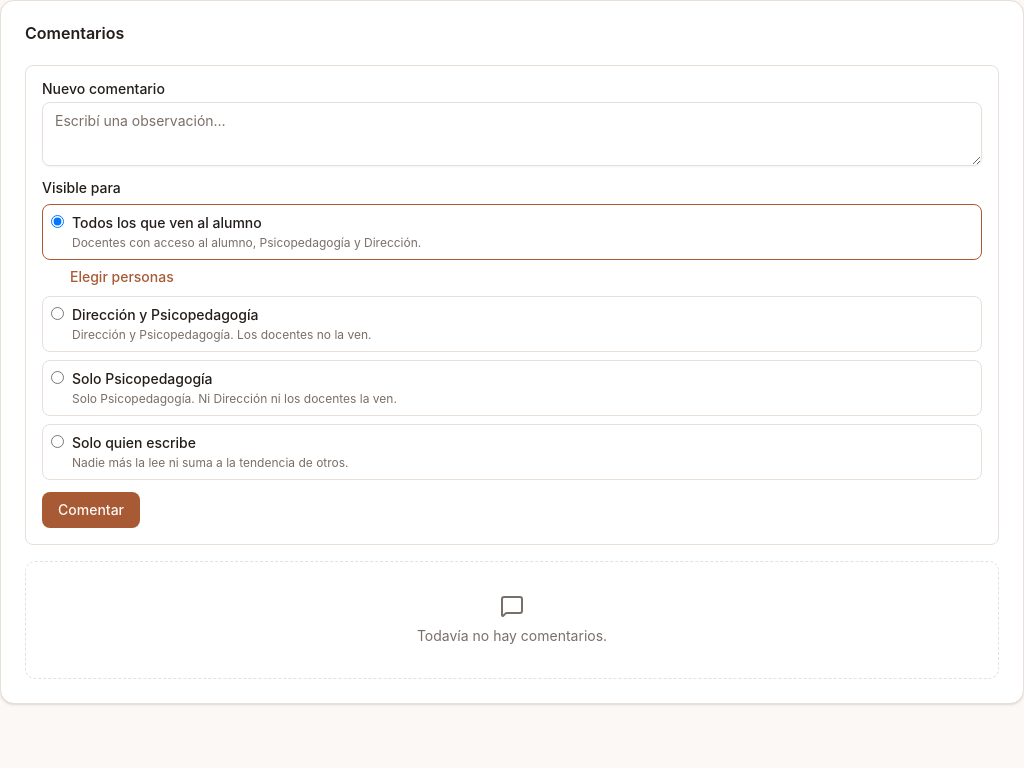
CommentsPanel observations bank › names the roles the other way round when only psychopedagogy has people picked
Click the 2nd radio button at point(58, 314), box [51,307,64,320]
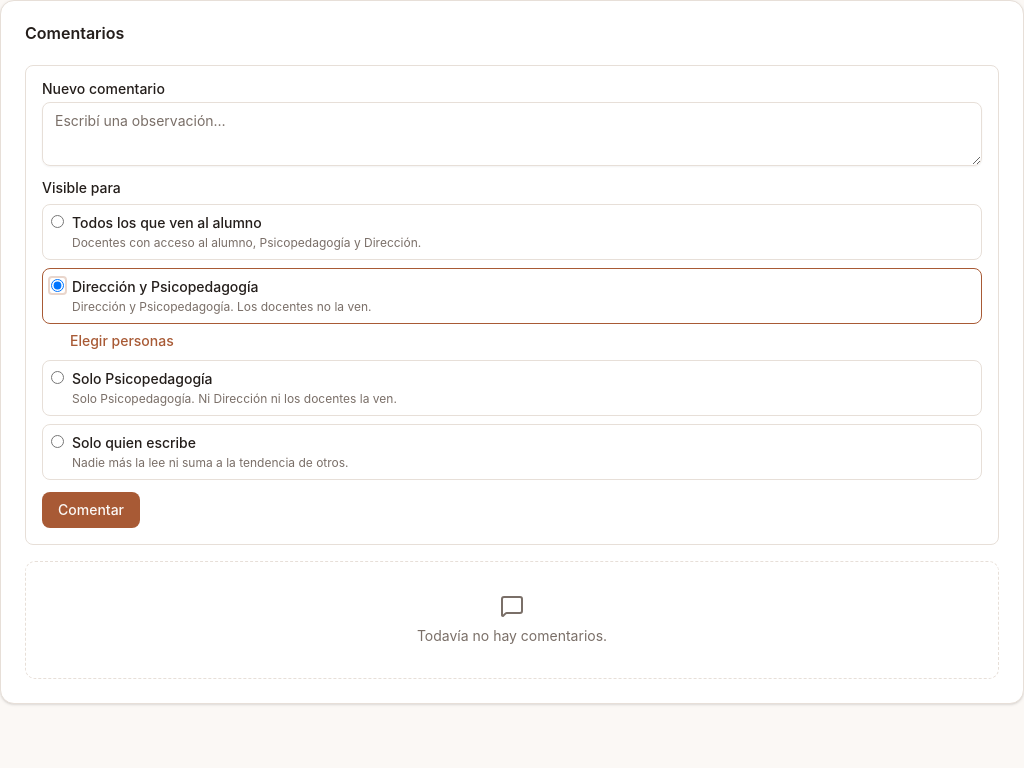
Click the button "Elegir personas" at point(122, 341), box [70,331,174,351]
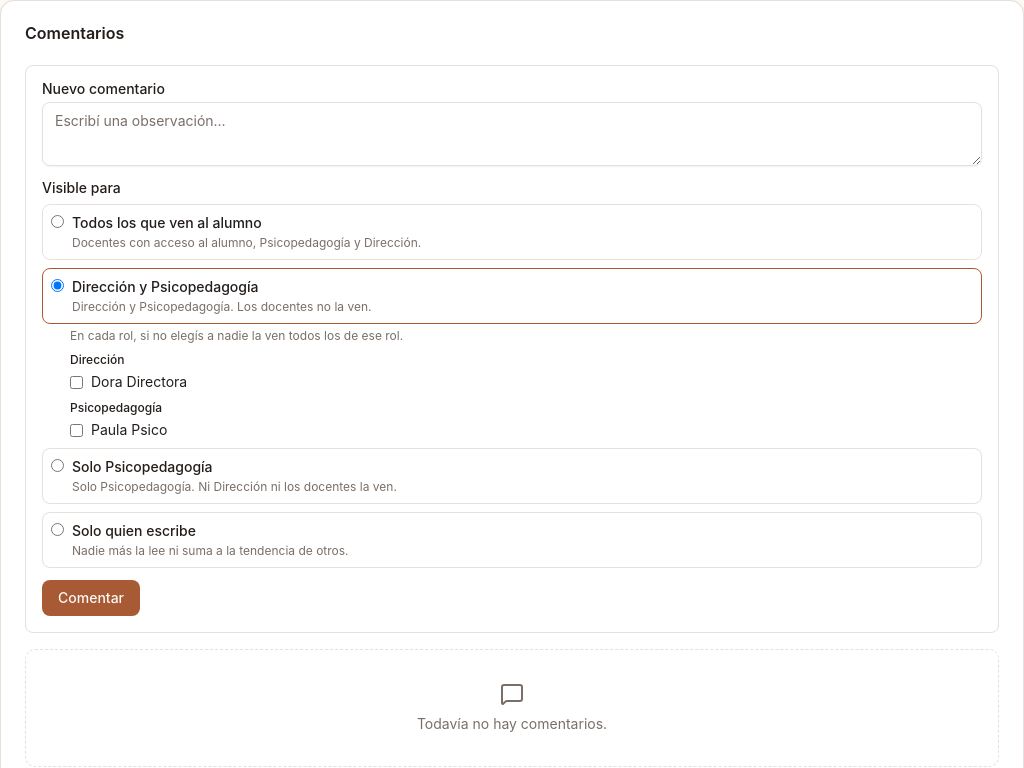
Click the checkbox labelled "Paula Psico" at point(76, 430), box [70,424,83,436]
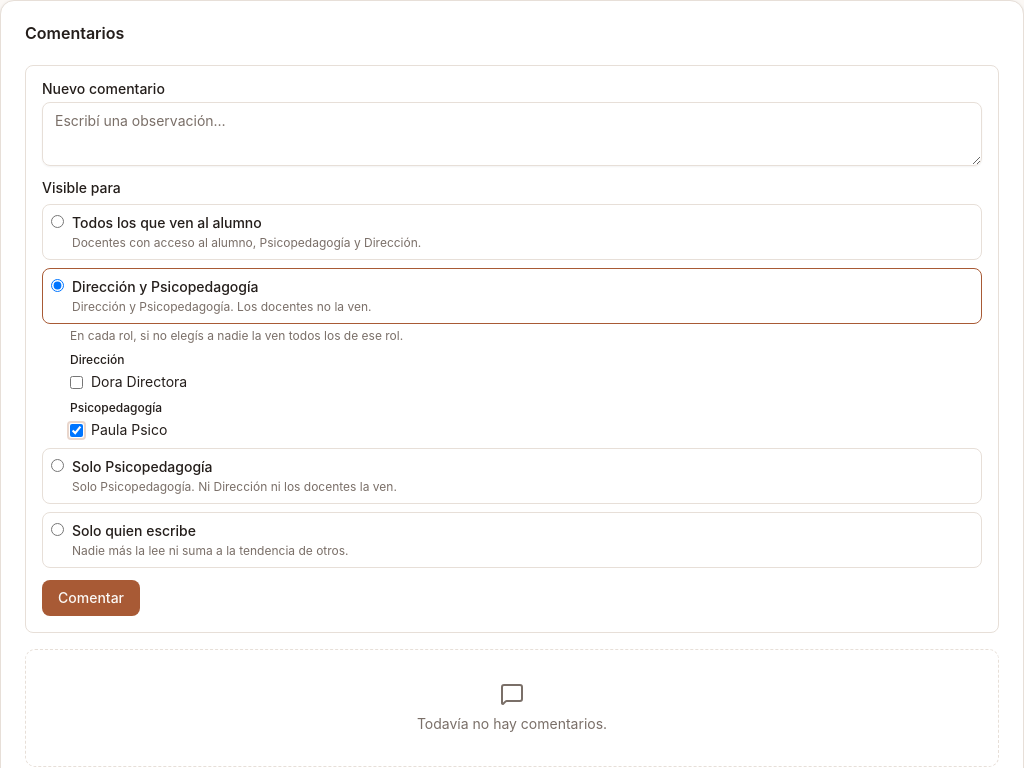
Type "Para Paula" into the text box labelled "Nuevo comentario" at point(512, 134), box [42,102,982,166]
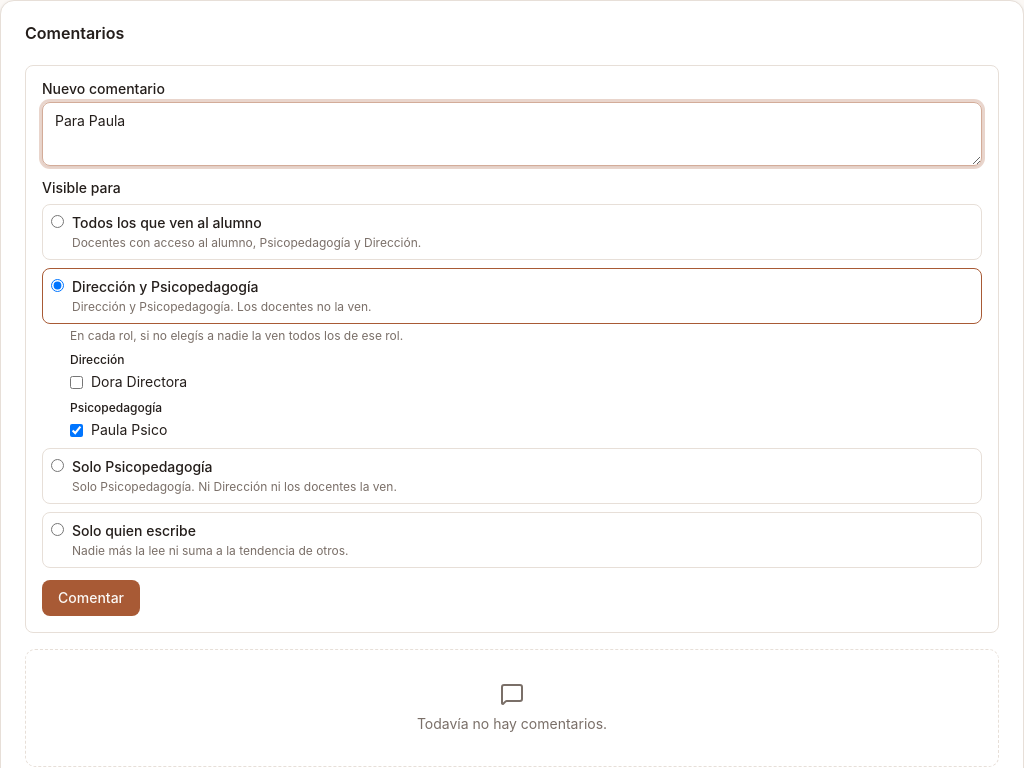
Click the button "Comentar" at point(91, 598), box [42,580,140,616]
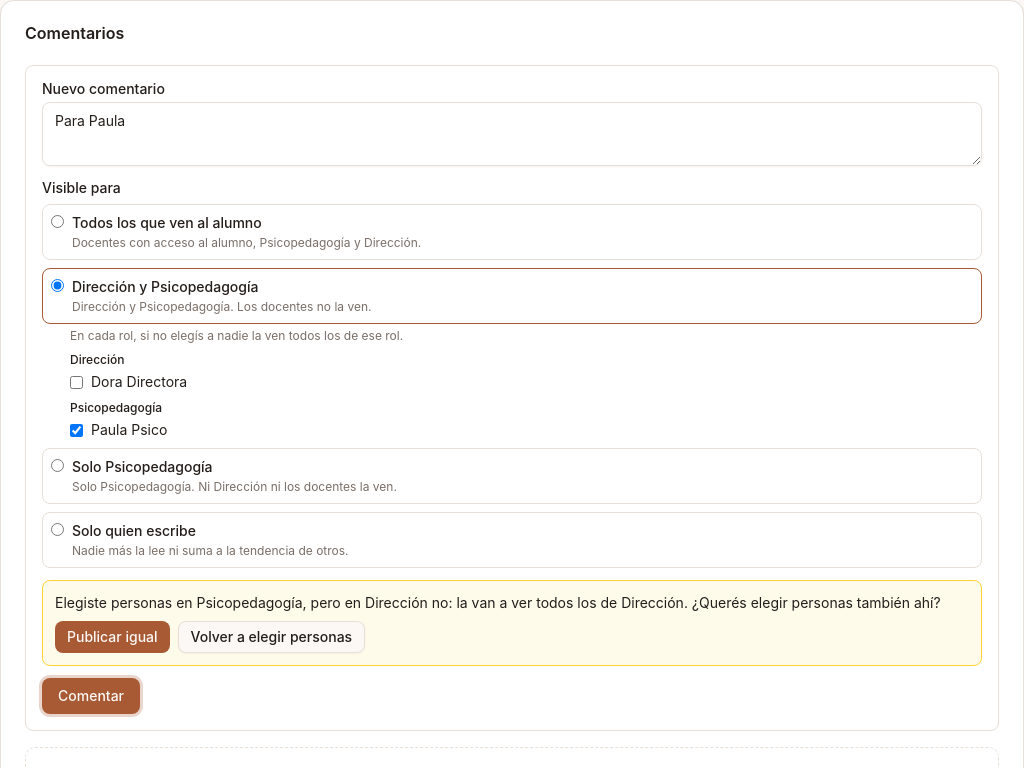
Expected: the message shows "Elegiste personas en Psicopedagogía, pero en Dirección no: la van a ver todos los de Dirección. ¿Querés elegir personas también ahí?", [42,580,982,666]
